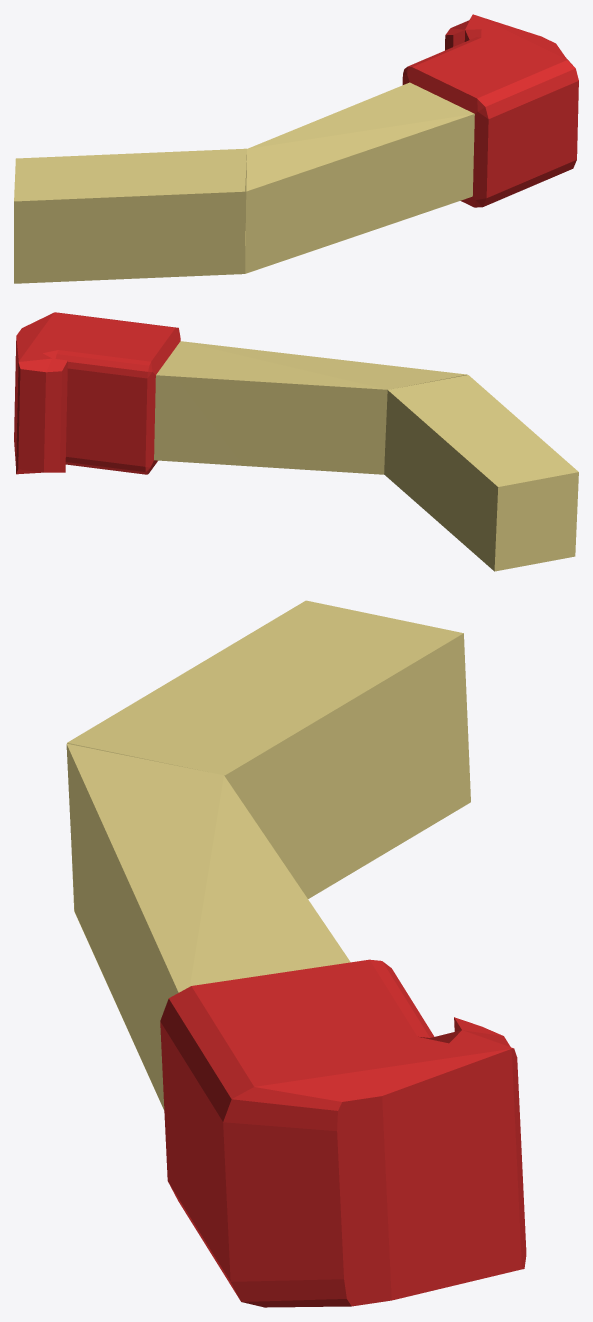
The model's file is hook.glb.
3 views of the same model, one above another, from view 1: azimuth 30°, elevation 25°; view 2: azimuth 150°, elevation 25°; view 3: azimuth 270°, elevation 25° (orthographic). The views are drawn at different scales.
Visible parts, largest first — view 1: Hook_Model; view 2: Hook_Model; view 3: Hook_Model.
Boxes of the visible parts, box(x1,y1,x2,y2) form: Hook_Model: box(14, 14, 578, 283); Hook_Model: box(14, 312, 578, 571); Hook_Model: box(66, 600, 526, 1307).
Size of the model in its own units: 5.92 by 1.2 by 2.15.
1 material, 1 textured.
